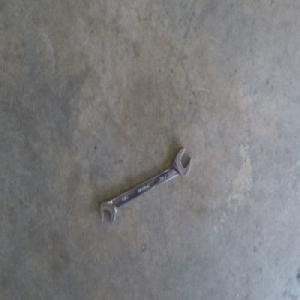Wrench: (99, 146, 191, 225)
